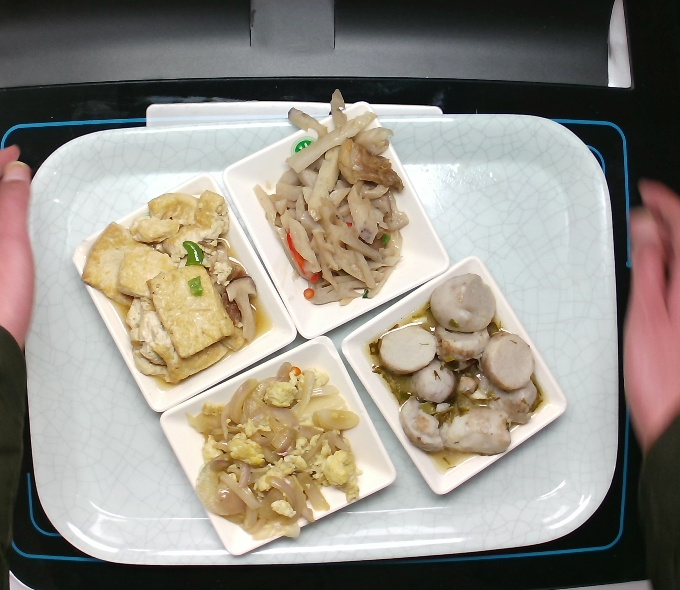wcq-JiaChangDouFu: (79, 185, 271, 391)
wcq-QingChaoOuPian: (246, 84, 415, 311)
wcq-YangCongChaoDan: (183, 356, 367, 542)
wcq-YangYu: (364, 271, 547, 472)
